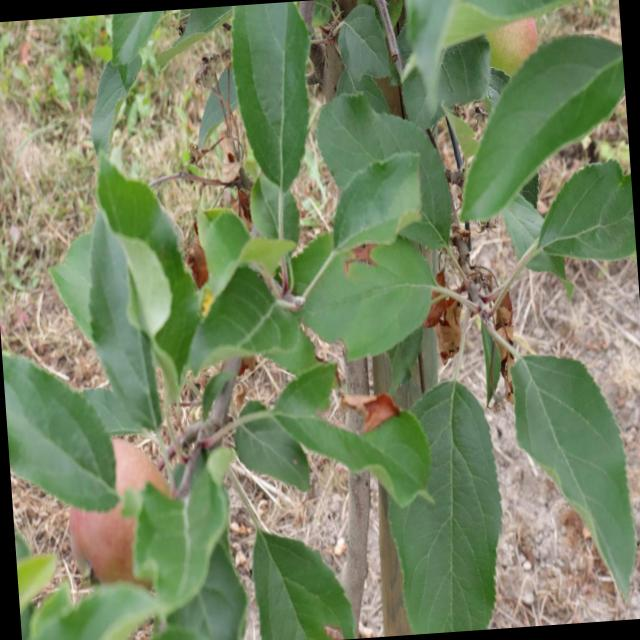-FireBlight-: (419, 254, 524, 397), (340, 387, 404, 425)
